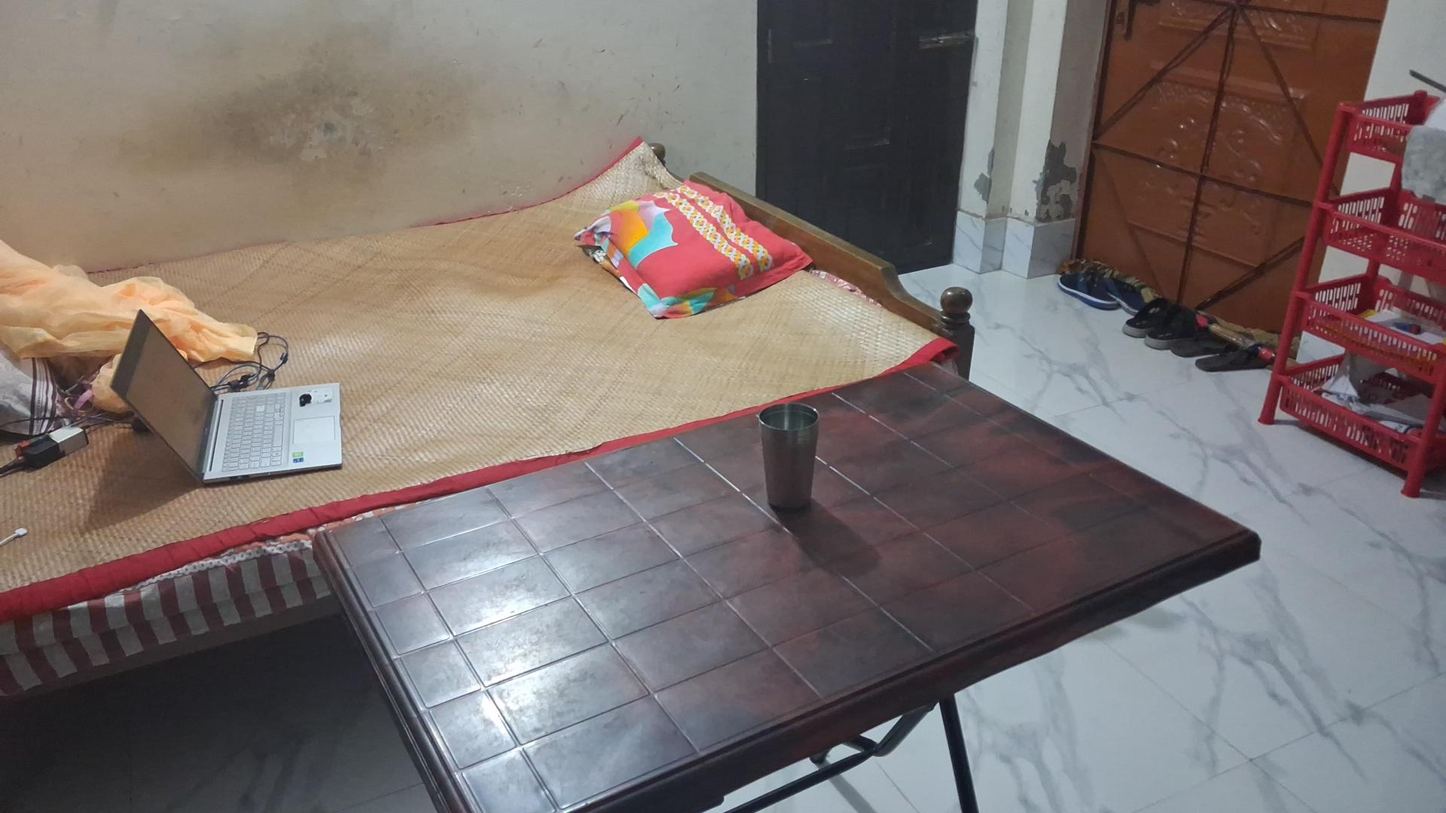Footwear: (1056, 267, 1149, 315), (1124, 306, 1211, 346)
Glass: (757, 403, 819, 512)
Laptop: (110, 308, 344, 486)
Pillow: (574, 183, 813, 317)
Rack: (1259, 100, 1446, 497)
Table: (313, 361, 1264, 813)
